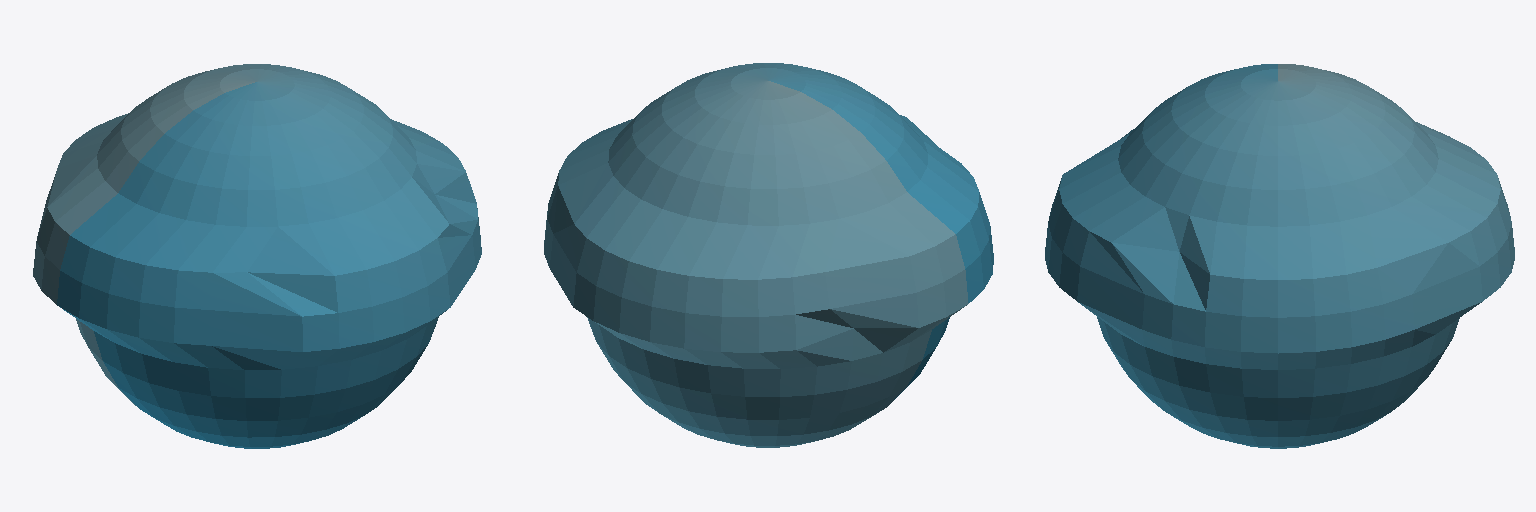
3 views of the same model, side by side, from view 1: azimuth 30°, elevation 25°; view 2: azimuth 150°, elevation 25°; view 3: azimuth 270°, elevation 25° (orthographic).
Parts seen in each view (by area): view 1: 球; view 2: 球; view 3: 球.
Boxes of the visible parts, x1,y1,x2,y2 form: 球: [33, 64, 481, 448]; 球: [544, 63, 993, 447]; 球: [1045, 64, 1514, 448].
Bounding box in the file's own units: 2.39 × 2 × 2.44.
Materials: 1 (1 with a texture image).